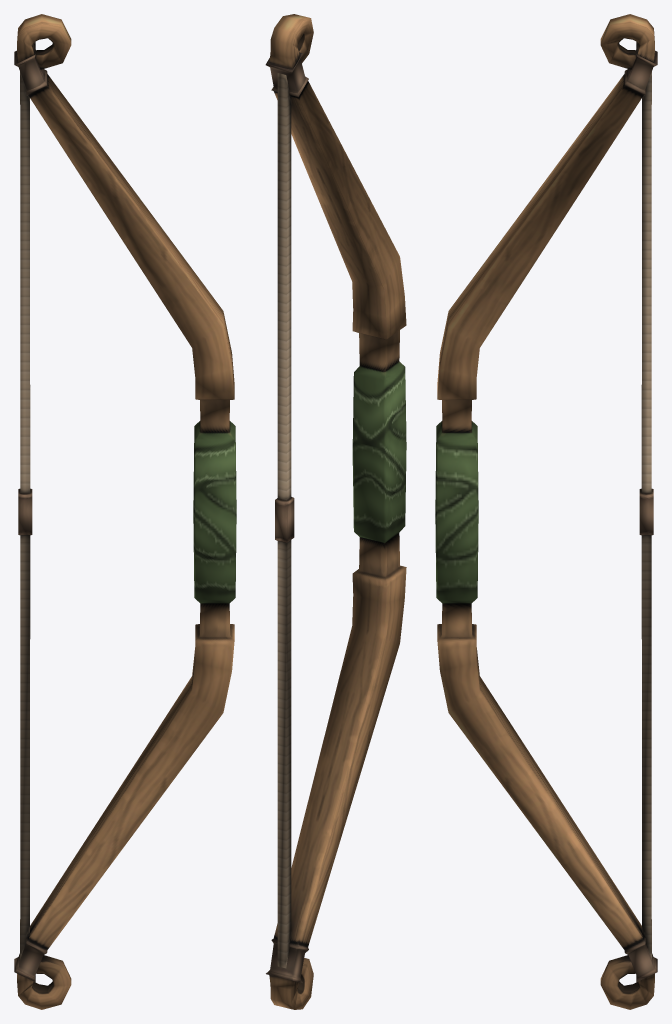
File: Bow_a.fbx
3 renders of one model, left to right at view 1: azimuth 90°, elevation 25°; view 2: azimuth 150°, elevation 25°; view 3: azimuth 270°, elevation 25°, orthographic.
Visible parts, largest first — view 1: Bow_a; view 2: Bow_a; view 3: Bow_a.
Part boxes in pixels (box(x1,y1,x2,y2)): Bow_a: box(14, 14, 236, 1009); Bow_a: box(265, 14, 406, 1009); Bow_a: box(435, 14, 657, 1009).
Bounding box in the file's own units: 4.52 × 124 × 25.38.
